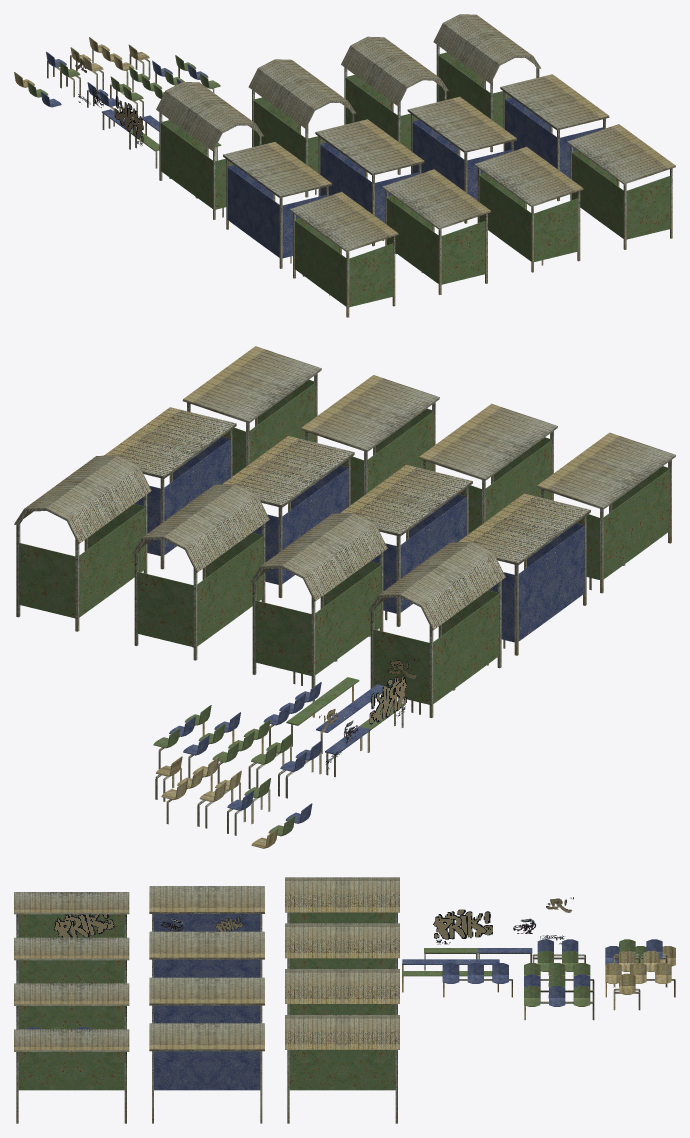
The model's file is env_urban_bus_stops.glb.
3 renders of one model, top to bottom at view 1: azimuth 30°, elevation 25°; view 2: azimuth 150°, elevation 25°; view 3: azimuth 270°, elevation 25°, orthographic. The views are drawn at different scales.
Visible parts, largest first — view 1: busstop_graffiti_alt, busstop_clean_seats_alt, busstop_alt_clean_bench, busstop_alt, busstop_graffiti_round_roof, busstop_graffiti, busstop_round_roof, busstop_clean_bench_round_roof, busstop_clean_seats_round_roof, busstop_clean_bench, busstop, busstop_clean_seats (+3 smaller); view 2: busstop_clean_bench_round_roof, busstop_round_roof, busstop_clean_seats_round_roof, busstop_graffiti_round_roof, busstop_graffiti_alt, busstop_graffiti, busstop_alt_clean_bench, busstop_clean_seats_alt, busstop_alt, busstop_clean_bench, busstop_clean_seats, busstop (+11 smaller); view 3: busstop_round_roof, busstop, busstop_alt, busstop_clean_bench, busstop_clean_seats, busstop_graffiti_round_roof, busstop_alt_clean_bench, busstop_clean_seats_alt, busstop_clean_bench_round_roof, busstop_clean_seats_round_roof, busstop_graffiti, busstop_graffiti_alt (+12 smaller).
Part boxes in pixels (<box>): busstop_graffiti_alt: <box>289,191,398,317</box>; busstop_clean_seats_alt: <box>474,146,583,272</box>; busstop_alt_clean_bench: <box>382,169,490,294</box>; busstop_alt: <box>567,124,675,249</box>; busstop_graffiti_round_roof: <box>156,82,263,219</box>; busstop_graffiti: <box>223,142,331,268</box>; busstop_round_roof: <box>433,14,540,152</box>; busstop_clean_bench_round_roof: <box>248,59,356,197</box>; busstop_clean_seats_round_roof: <box>341,36,448,174</box>; busstop_clean_bench: <box>315,119,424,246</box>; busstop: <box>500,74,609,201</box>; busstop_clean_seats: <box>407,96,516,223</box>; busstop_clean_bench_round_roof: <box>250,513,387,688</box>; busstop_round_roof: <box>14,455,151,631</box>; busstop_clean_seats_round_roof: <box>132,484,269,660</box>; busstop_graffiti_round_roof: <box>368,541,505,717</box>; busstop_graffiti_alt: <box>537,432,675,593</box>; busstop_graffiti: <box>458,493,590,655</box>; busstop_alt_clean_bench: <box>419,403,557,533</box>; busstop_clean_seats_alt: <box>301,375,439,504</box>; busstop_alt: <box>182,346,321,475</box>; busstop_clean_bench: <box>340,464,472,626</box>; busstop_clean_seats: <box>222,436,354,597</box>; busstop: <box>104,407,236,569</box>; busstop_round_roof: <box>285,1015,399,1123</box>; busstop: <box>149,1023,264,1123</box>; busstop_alt: <box>14,1029,129,1123</box>; busstop_clean_bench: <box>149,931,264,977</box>; busstop_clean_seats: <box>149,977,264,1023</box>; busstop_graffiti_round_roof: <box>285,877,399,923</box>; busstop_alt_clean_bench: <box>14,937,129,983</box>; busstop_clean_seats_alt: <box>14,983,129,1029</box>; busstop_clean_bench_round_roof: <box>285,923,399,968</box>; busstop_clean_seats_round_roof: <box>285,969,399,1014</box>; busstop_graffiti: <box>149,886,264,931</box>; busstop_graffiti_alt: <box>14,892,129,937</box>.
Bounding box in the file's own units: 14.59 × 3.86 × 24.44.
1 material, 1 textured.
